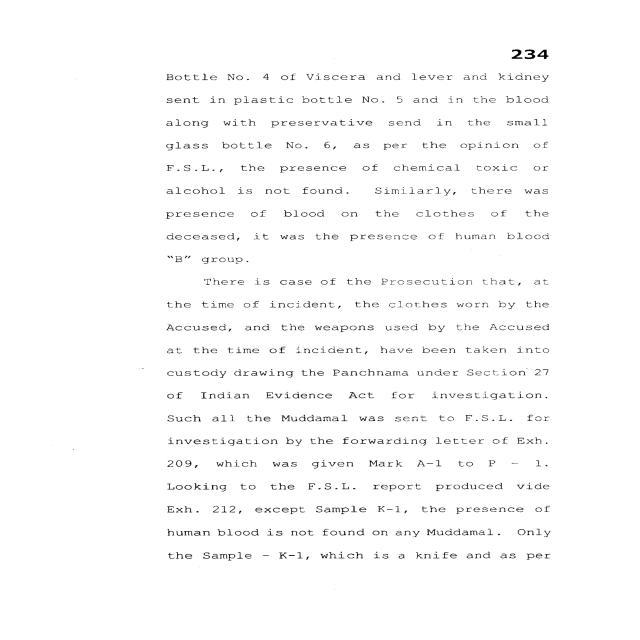page-number: (427, 1, 633, 66)
